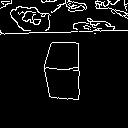cube: (34, 36, 96, 104)
